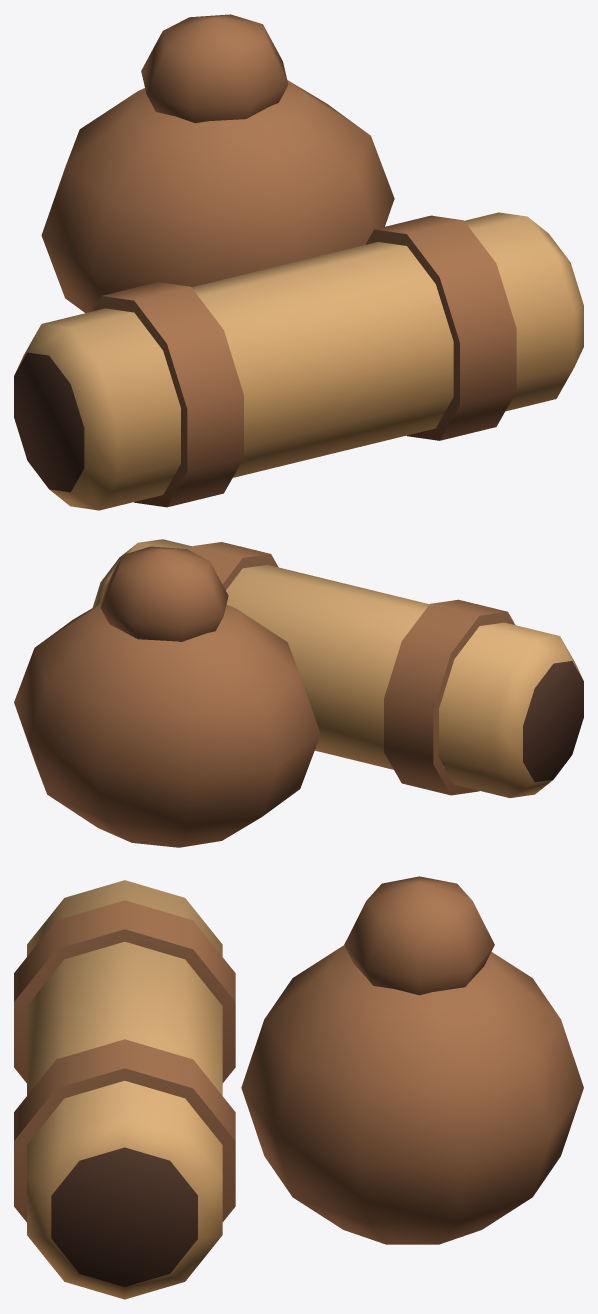
File: bedroll_A.fbx
The picture shows the model from 3 angles, top to bottom: view 1: azimuth 30°, elevation 25°; view 2: azimuth 150°, elevation 25°; view 3: azimuth 270°, elevation 25°; orthographic projection. The views are drawn at different scales.
Parts seen in each view (by area): view 1: bedroll_A; view 2: bedroll_A; view 3: bedroll_A.
Boxes of the visible parts, x1,y1,x2,y2 form: bedroll_A: [14, 14, 583, 510]; bedroll_A: [14, 539, 583, 847]; bedroll_A: [14, 876, 583, 1299].
Size of the model in its own units: 0.44 by 0.275 by 0.4158.
Materials: 1 (1 with a texture image).
